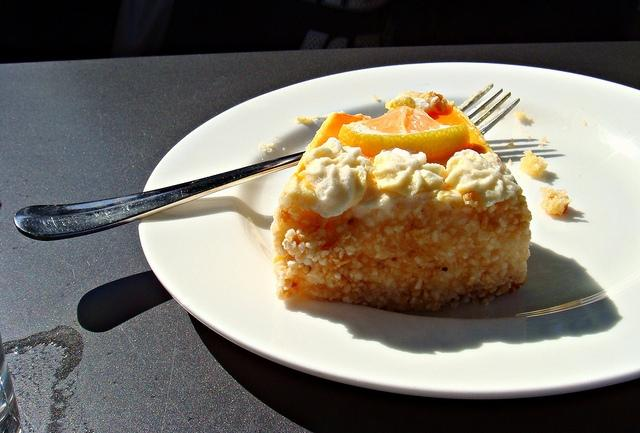orange: (338, 106, 469, 163), (294, 110, 373, 173), (434, 106, 494, 152)
